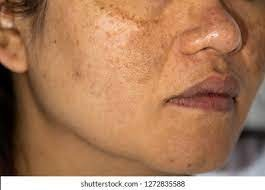Melasma: (89, 0, 173, 87), (201, 6, 235, 38), (246, 16, 262, 71)
